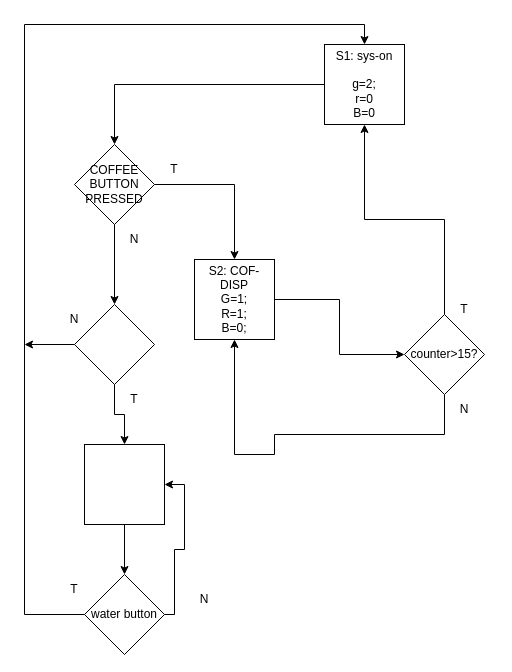
Image size: 512x672. Some labels were removed from this diagram. Each missing label, with the box of its shape:
N: water button pressed: (74, 304, 154, 384)
S3: water-DISP G=1; R=0; B=1;: (84, 444, 164, 524)
